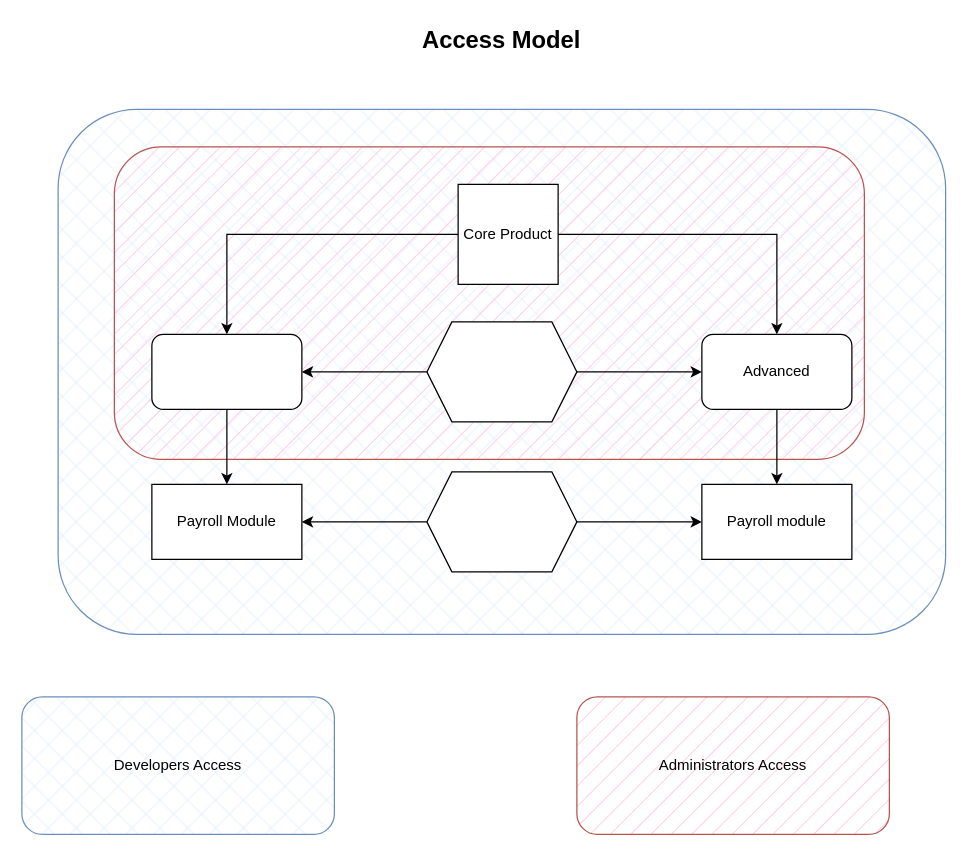
Image size: 968x856. Some labels were removed from this diagram. Each missing label, with the centre of its shape:
Payroll specialists Work on both: (501,521)
Staff Either Or: (501,371)
Standard: (226,371)
